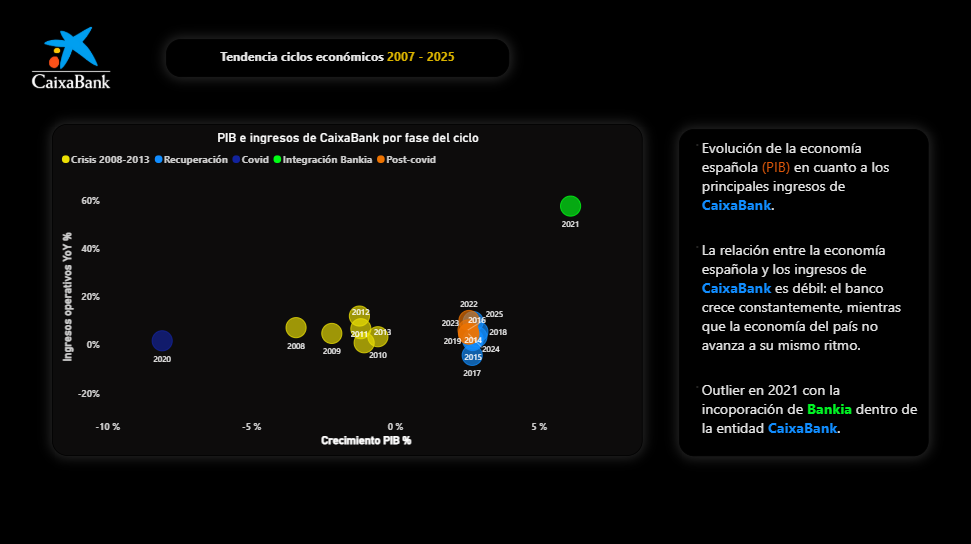

What the dashboard file says about the page in this screenshot:
{"tool":"powerbi","page":{"name":"PIB y crecimiento por ciclos","canvas":[1280,720],"ordinal":2},"visuals":[{"type":"image","box":[4.7,29.7,179.5,95.2],"z":0},{"type":"textbox","box":[200,47.5,535.6,59.3],"z":1000},{"type":"scatterChart","title":"PIB e ingresos de CaixaBank por fase del ciclo","fields":{"X":["Medidas.Crecimiento PIB %"],"Y":["Medidas.Ingresos operativos YoY %"],"Category":["Calendario.Año"],"Size":["Medidas.Ingresos operativos (2007 2025)"],"Series":["Calendario.Fase económica"]},"box":[200,154.5,775.8,436.4],"z":2000}]}

Visuals, with their boxes in screenshot pixels (x1, y1, x2, y2), scaled from the page's 1280x720 canvas onto the 971x544 screenshot:
image: (x1=4, y1=22, x2=140, y2=94)
textbox: (x1=152, y1=36, x2=558, y2=81)
"PIB e ingresos de CaixaBank por fase del ciclo" scatterChart: (x1=152, y1=117, x2=740, y2=446)
